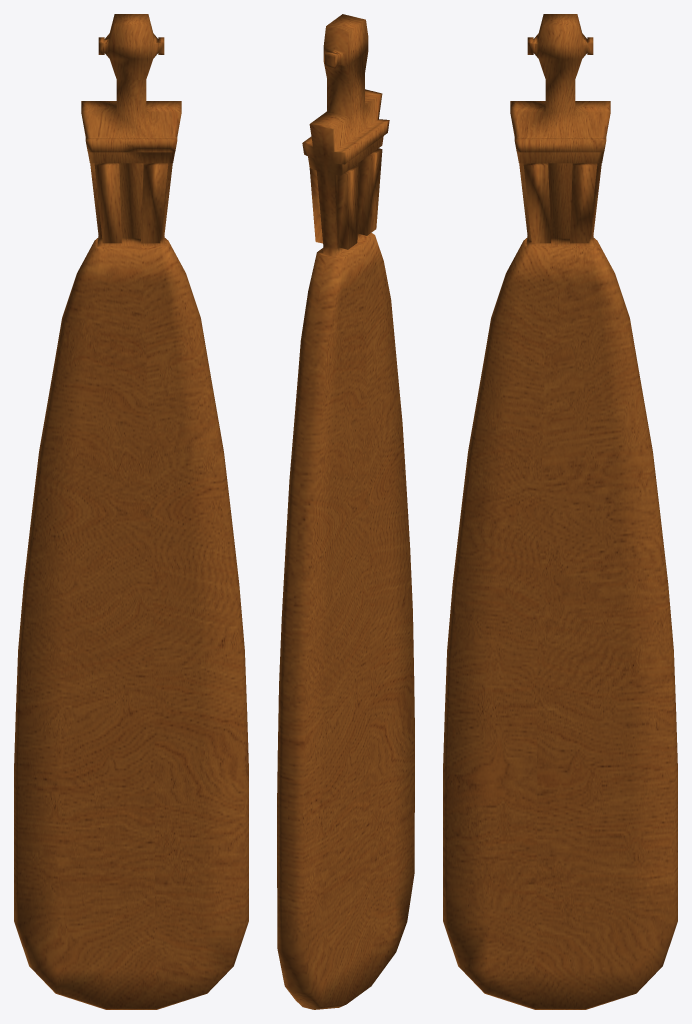
The model's file is Haklung.glb.
The picture shows the model from 3 angles, left to right: view 1: azimuth 90°, elevation 25°; view 2: azimuth 150°, elevation 25°; view 3: azimuth 270°, elevation 25°; orthographic projection.
Parts seen in each view (by area): view 1: Low; view 2: Low; view 3: Low.
Boxes of the visible parts, x1=… form: Low: x1=14, y1=14, x2=248, y2=1009; Low: x1=277, y1=14, x2=414, y2=1009; Low: x1=443, y1=14, x2=677, y2=1009.
Bounding box in the file's own units: 1.1 × 24.44 × 5.26.
Materials: 1 (1 with a texture image).
